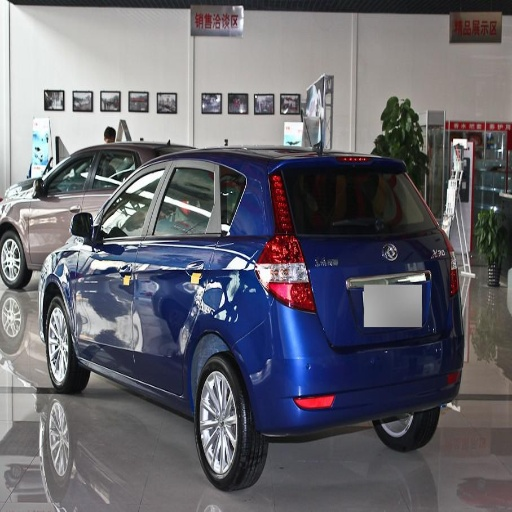back_bumper: (238, 299, 465, 443)
back_glass: (341, 172, 429, 222)
back_left_door: (135, 161, 218, 392)
